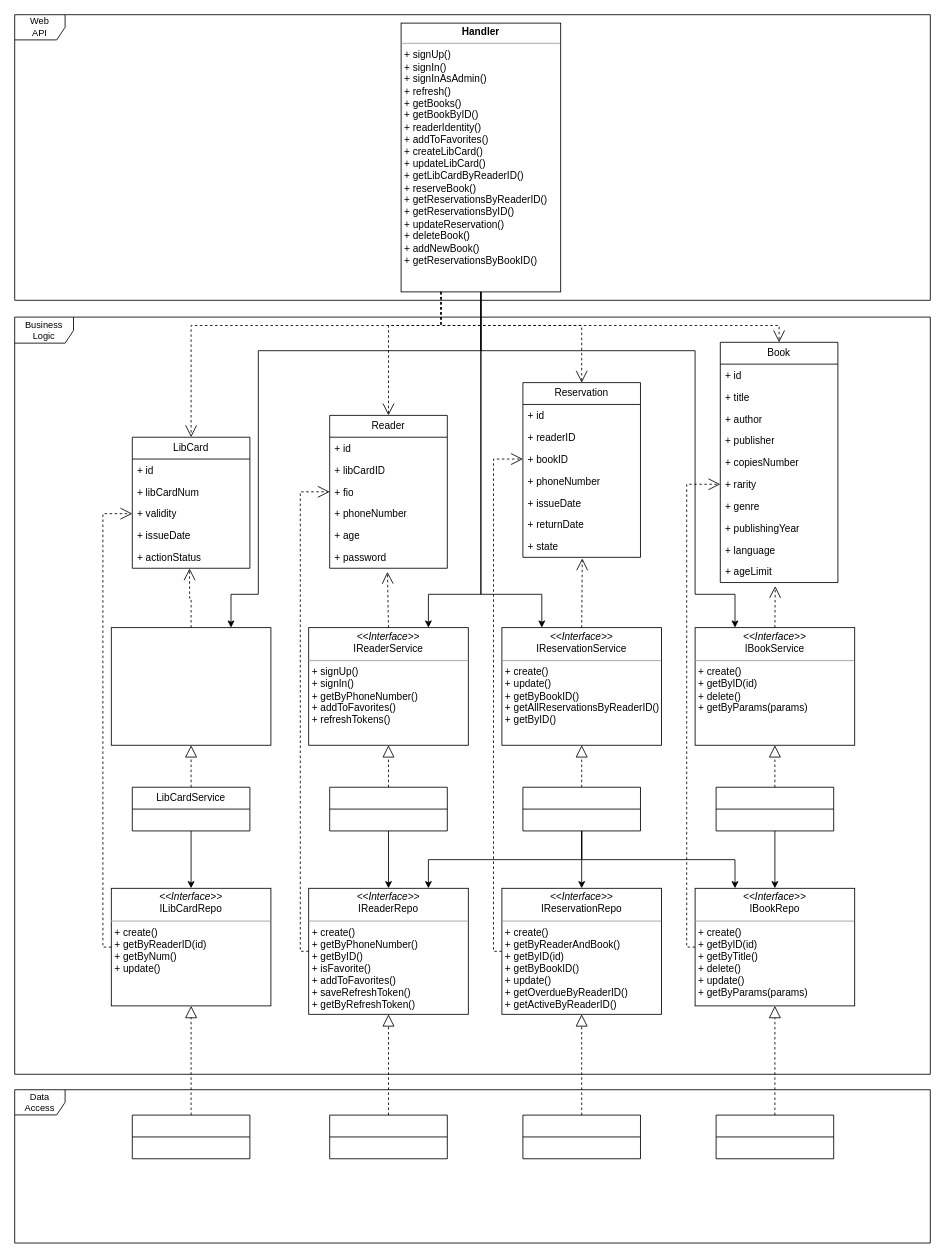
Image size: 945x1258. Some labels were removed from this diagram. Each missing label, with the centre of its shape:
<<Interface>> ILibCardService + create() + update(id) + getByReaderID(): point 190,686
BookRepo: point 774,1136
BookService: point 774,808
LibCardRepo: point 190,1136
ReaderRepo: point 388,1136
ReaderService: point 388,808
ReservationRepo: point 581,1136
ReservationService: point 581,808
